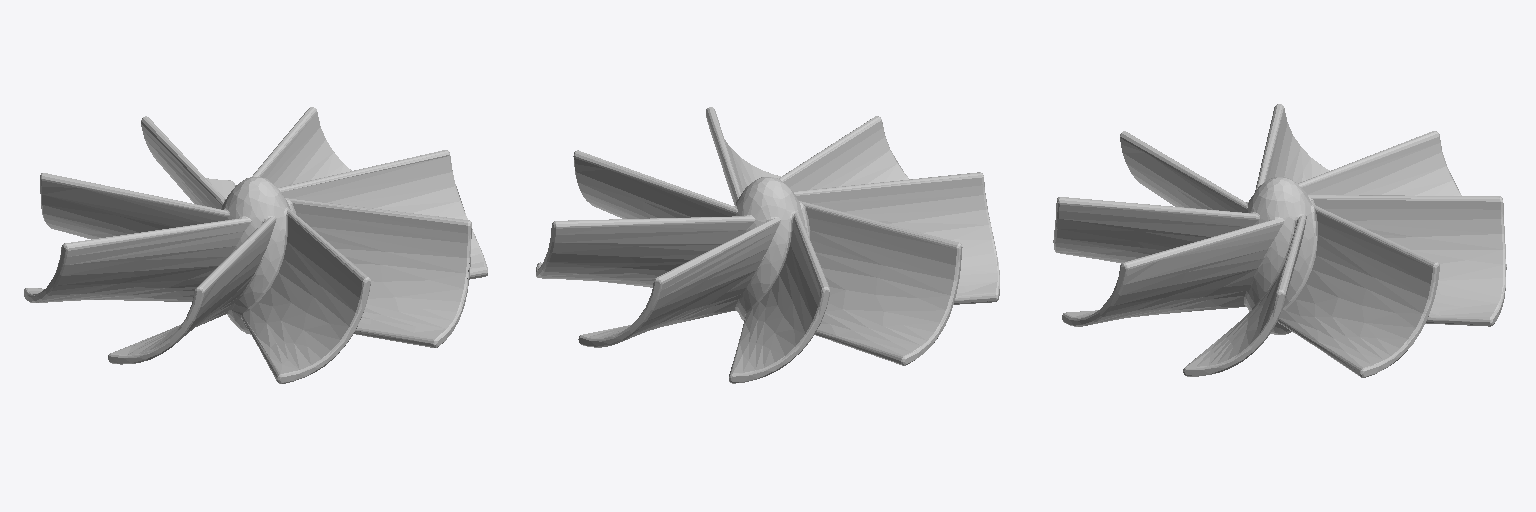
File: vent_fan.obj
The picture shows the model from 3 angles: view 1: azimuth 30°, elevation 25°; view 2: azimuth 150°, elevation 25°; view 3: azimuth 270°, elevation 25°; orthographic projection.
Visible parts, largest first — view 1: uploads_files_86610_Fan__2_; view 2: uploads_files_86610_Fan__2_; view 3: uploads_files_86610_Fan__2_.
Boxes of the visible parts, x1=… form: uploads_files_86610_Fan__2_: x1=24, y1=107, x2=487, y2=383; uploads_files_86610_Fan__2_: x1=536, y1=107, x2=999, y2=383; uploads_files_86610_Fan__2_: x1=1053, y1=104, x2=1506, y2=377.
Bounding box in the file's own units: 1.24 × 0.4682 × 1.24.